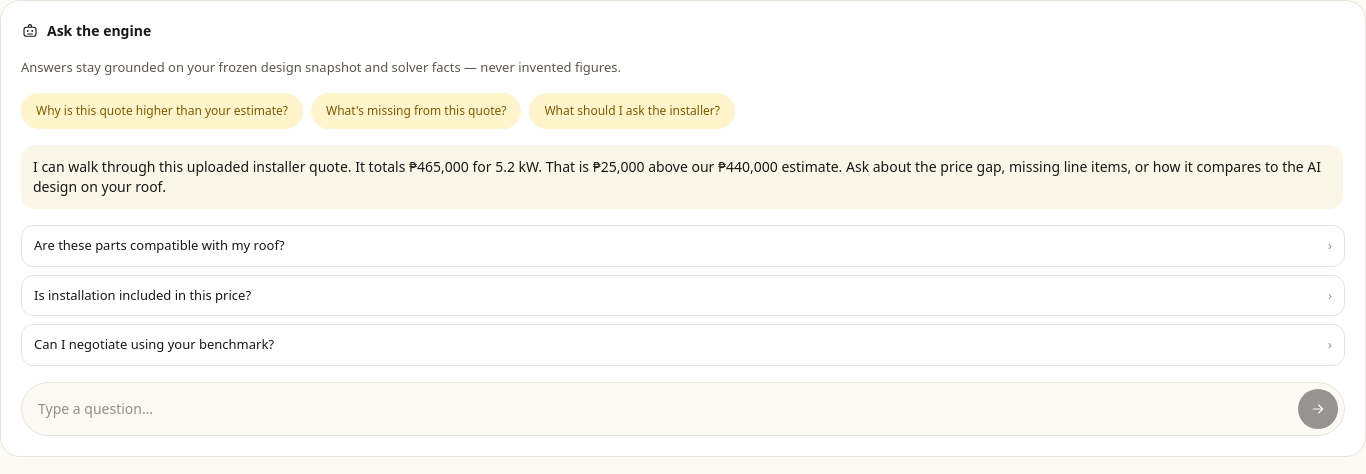
AskEngineSidebar › shows quote-specific prompts in quote mode
Expected: the text "uploaded installer quote" is shown, [33,157,1321,196]
Click the button "Why is this quote higher than your estimate?". click: (162, 111)
box: [21,93,303,129]
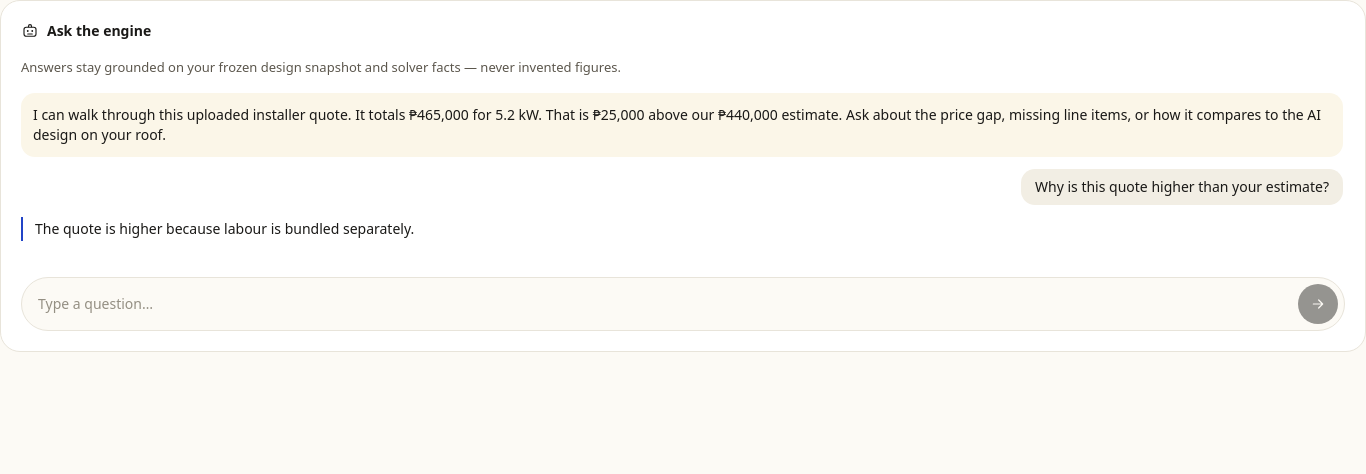
Expected: the text "The quote is higher because labour is bundled separately." is shown, [21,217,1343,241]
